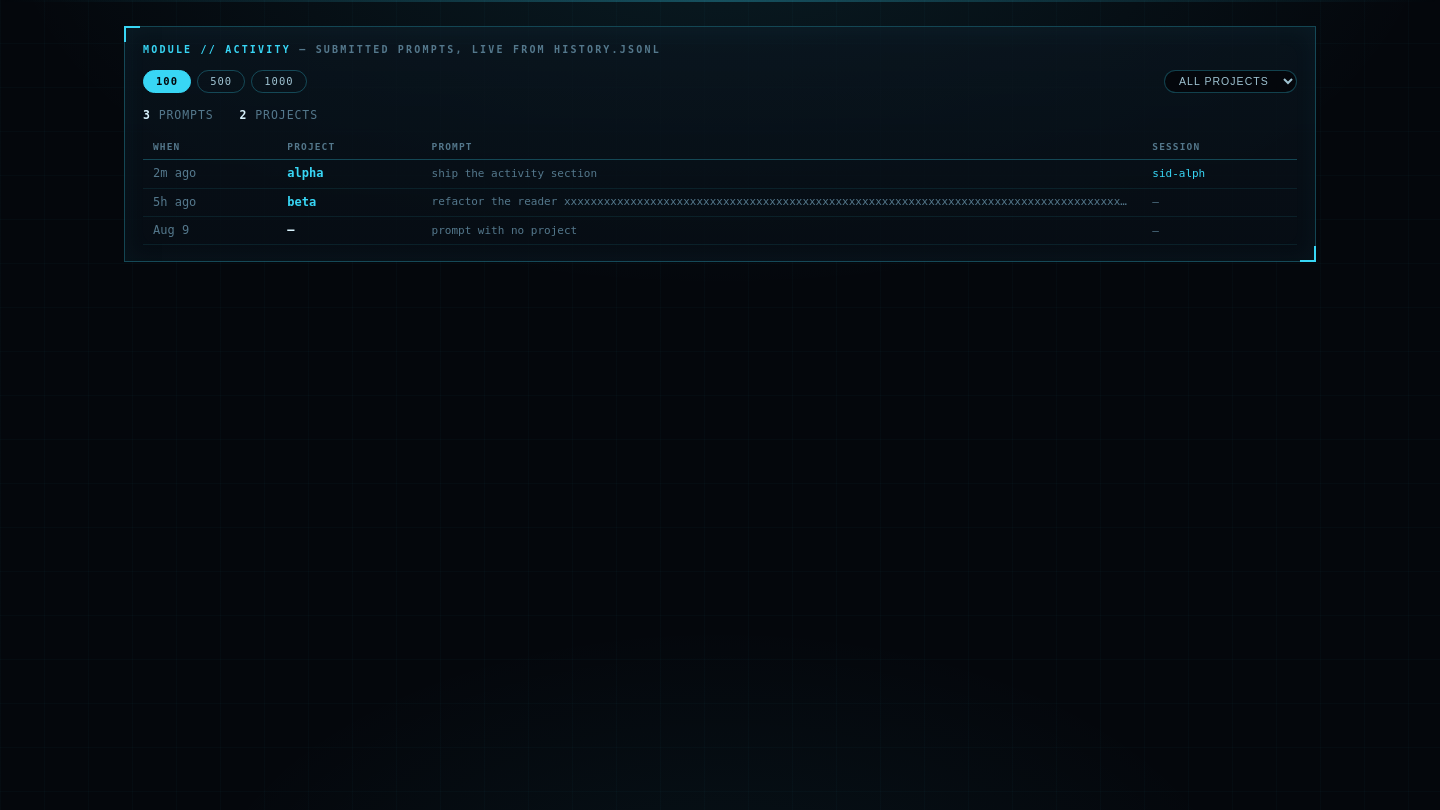
Activity › filters client-side by project from the dropdown
Check: the text "ship the activity section" is shown, box x1=422 y1=160 x2=1142 y2=188
Select "beta" in the dropdown named "Project" at (1230, 81), box x1=1164 y1=70 x2=1297 y2=93
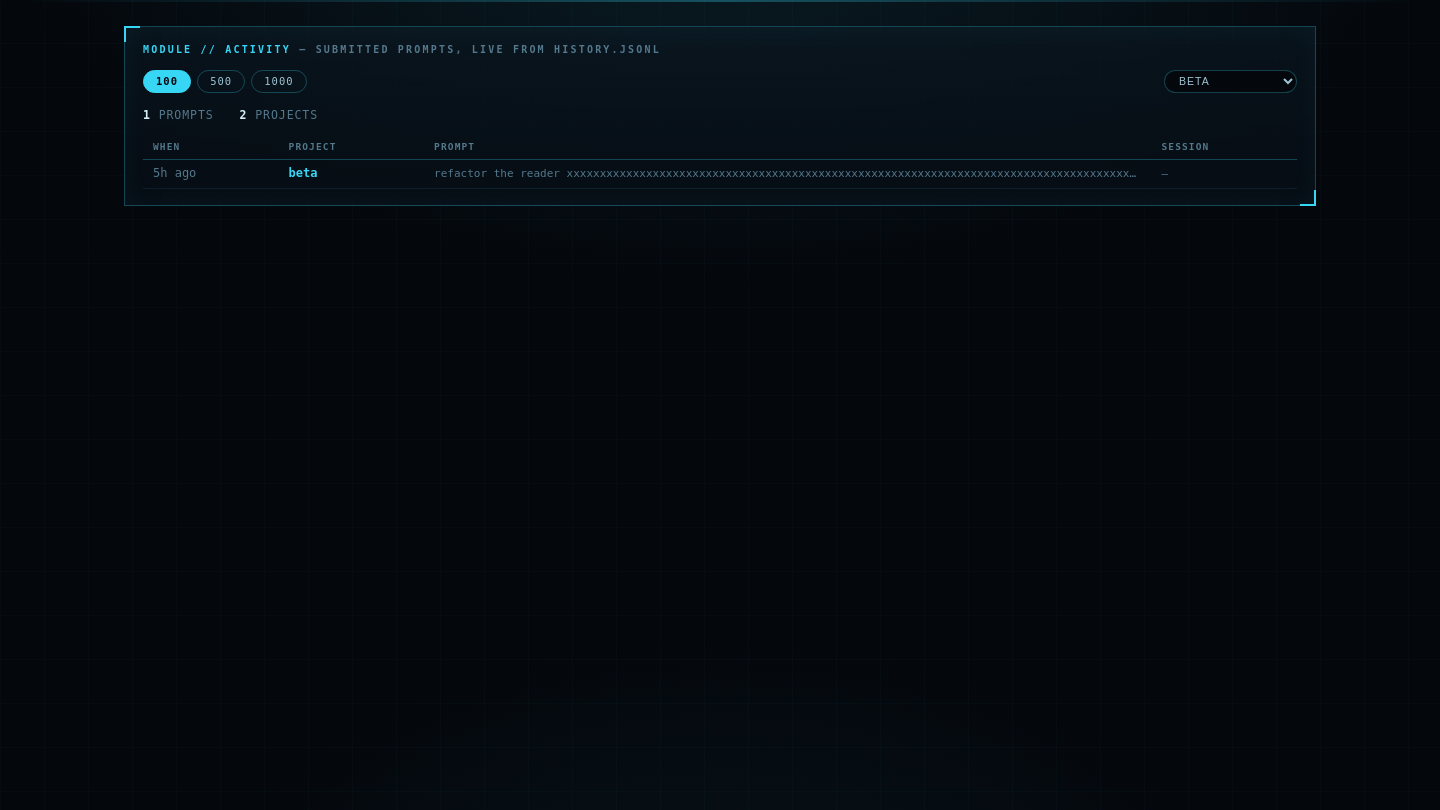
Check: the text "ship the activity section" is gone
